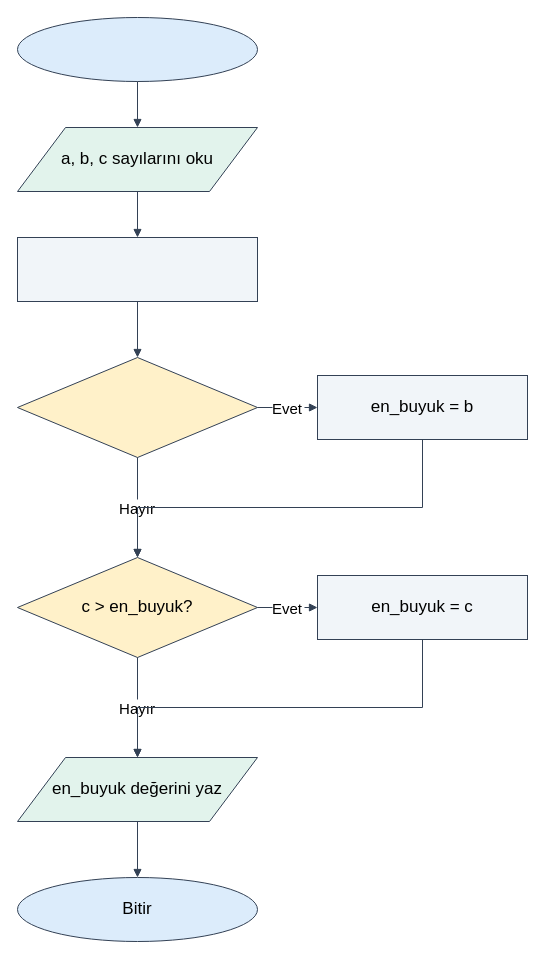
The diagram is 545 pixels wide and 959 high, and some of its shapes have lost their labels. Here are the shapes that lost their labels. From the top down, the centre of each, then its label:
At [137,49]: "Başla".
At [137,269]: "en_buyuk = a".
At [137,407]: "b > en_buyuk?".
